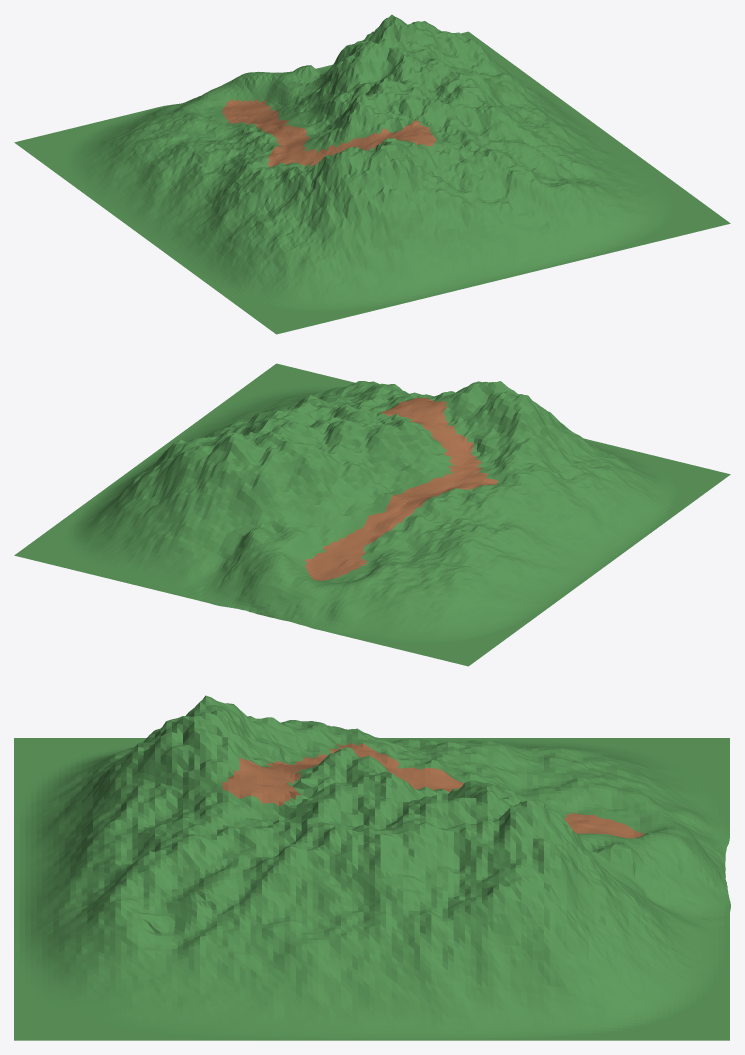
The model's file is mountain.gltf.
3 renders of one model, top to bottom at view 1: azimuth 30°, elevation 25°; view 2: azimuth 150°, elevation 25°; view 3: azimuth 270°, elevation 25°, orthographic. The views are drawn at different scales.
Visible parts, largest first — view 1: Landscape.002; view 2: Landscape.002; view 3: Landscape.002.
Part boxes in pixels (x1,y1,x2,y2): Landscape.002: (14,14,730,334); Landscape.002: (14,363,730,666); Landscape.002: (14,695,730,1040).
Size of the model in its own units: 20 by 4.43 by 20.03.
